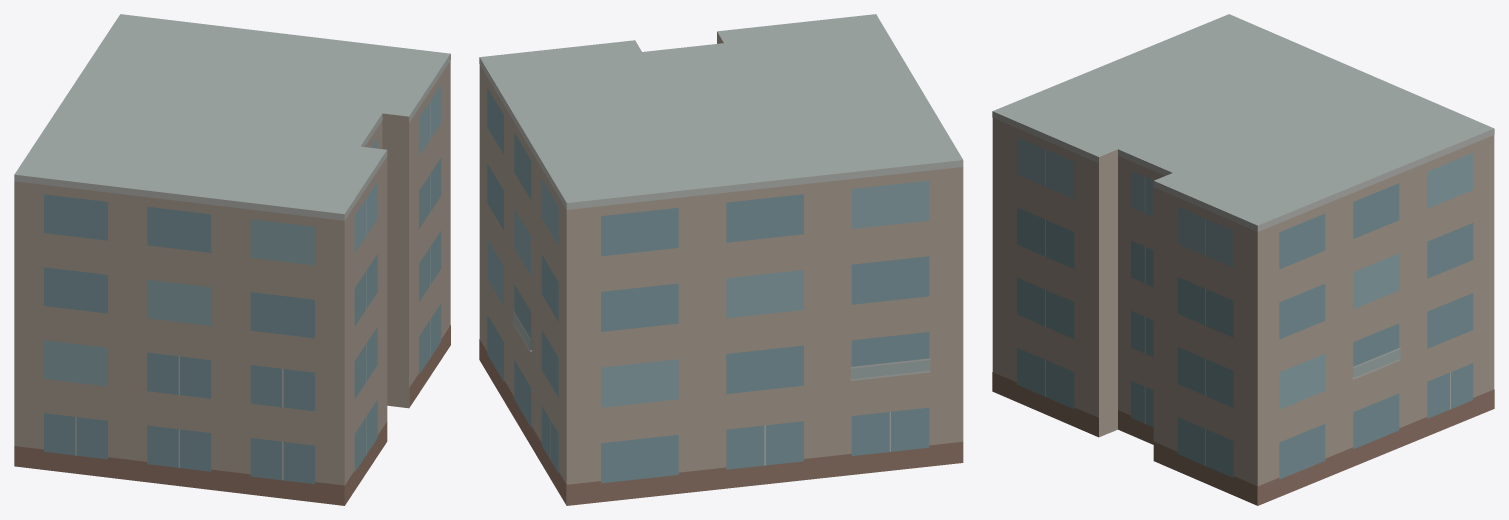
File: survey-upis-32714408.glb
3 renders of one model, left to right at view 1: azimuth 30°, elevation 25°; view 2: azimuth 150°, elevation 25°; view 3: azimuth 270°, elevation 25°, orthographic. The views are drawn at different scales.
Visible parts, largest first — view 1: survey-upis-32714408.tmp; view 2: survey-upis-32714408.tmp; view 3: survey-upis-32714408.tmp.
Boxes of the visible parts, bbox=[...] form: survey-upis-32714408.tmp: bbox=[14, 14, 450, 505]; survey-upis-32714408.tmp: bbox=[479, 14, 963, 505]; survey-upis-32714408.tmp: bbox=[992, 14, 1494, 505].
Size of the model in its own units: 17.5 by 10.8 by 17.54.
